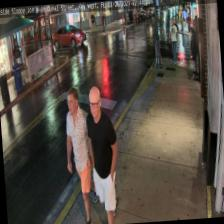person: (83, 83, 122, 224), (61, 85, 99, 224)
